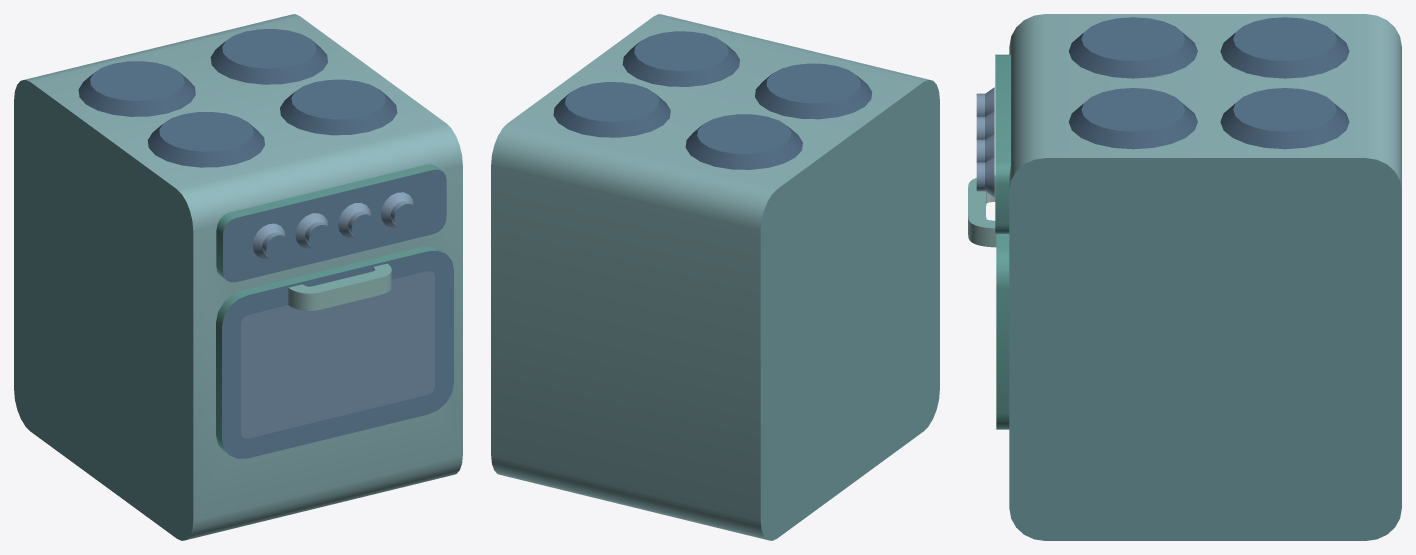
Rendered from Stove.fbx.
3 renders of one model, left to right at view 1: azimuth 30°, elevation 25°; view 2: azimuth 150°, elevation 25°; view 3: azimuth 270°, elevation 25°, orthographic. The views are drawn at different scales.
Parts seen in each view (by area): view 1: Stove.005, Stove, Stove.002, Stove.003, Stove.001, Stove.004; view 2: Stove.005; view 3: Stove.005, Stove, Stove.004.
Boxes of the visible parts, box(x1,y1,x2,y2) form: Stove.005: box(14, 14, 462, 540); Stove: box(216, 246, 453, 458); Stove.002: box(295, 213, 331, 248); Stove.003: box(338, 203, 374, 238); Stove.001: box(252, 223, 288, 259); Stove.004: box(381, 192, 416, 228); Stove.005: box(491, 14, 939, 540); Stove.005: box(995, 14, 1401, 540); Stove: box(968, 175, 1009, 429); Stove.004: box(976, 156, 994, 197).
Size of the model in its own units: 1.43 by 1.83 by 1.82.
